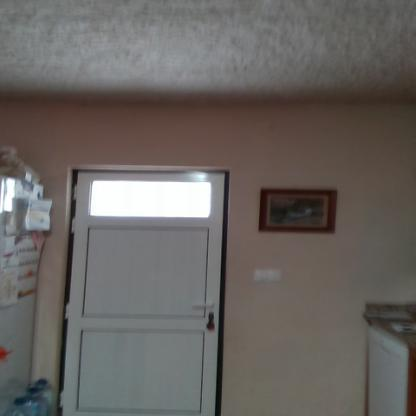door: (72, 169, 220, 415)
hinged: (64, 302, 70, 318), (72, 185, 78, 200), (71, 218, 76, 234), (60, 390, 64, 410)
lever: (188, 302, 216, 310)
